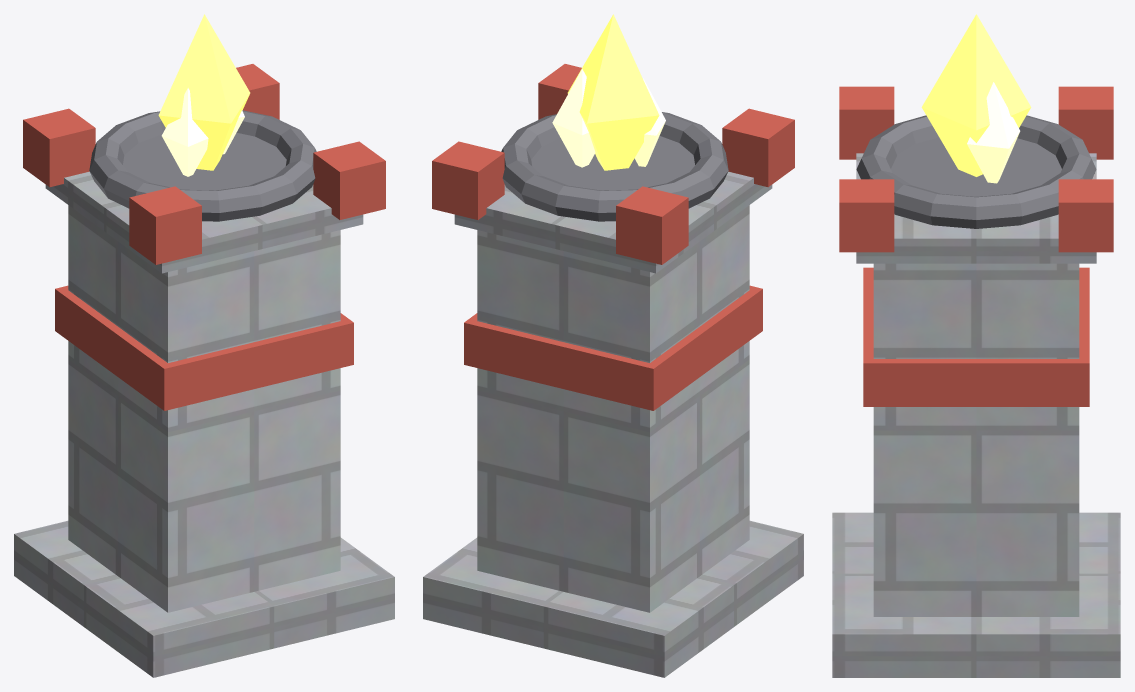
Rendered from fire.glb.
3 renders of one model, left to right at view 1: azimuth 30°, elevation 25°; view 2: azimuth 150°, elevation 25°; view 3: azimuth 270°, elevation 25°, orthographic. The views are drawn at different scales.
Visible parts, largest first — view 1: fire shaft, fire base, fire band, fire rim, fire course, fire flame a, fire bowl, fire merlon 4, fire merlon 3, fire merlon 2, fire flame c, fire merlon 1; view 2: fire shaft, fire base, fire band, fire rim, fire course, fire flame a, fire bowl, fire merlon 2, fire merlon 1, fire merlon 4, fire flame b, fire merlon 3 (+1 smaller); view 3: fire shaft, fire base, fire band, fire rim, fire flame a, fire course, fire bowl, fire merlon 1, fire merlon 3, fire merlon 2, fire merlon 4, fire flame b.
Part boxes in pixels (x1,y1,x2,y2): fire shaft: (68, 205, 340, 612); fire base: (14, 520, 394, 677); fire band: (55, 285, 353, 410); fire rim: (89, 110, 316, 221); fire course: (45, 171, 363, 273); fire flame a: (158, 14, 250, 170); fire bowl: (123, 132, 286, 190); fire merlon 4: (129, 186, 201, 264); fire merlon 3: (313, 141, 385, 219); fire merlon 2: (23, 108, 95, 187); fire flame c: (161, 88, 208, 176); fire merlon 1: (236, 64, 279, 119); fire shaft: (477, 205, 749, 612); fire base: (423, 520, 803, 677); fire band: (464, 285, 762, 410); fire rim: (501, 112, 728, 221); fire course: (454, 171, 772, 273); fire flame a: (567, 14, 659, 170); fire bowl: (531, 136, 694, 190); fire merlon 2: (616, 186, 688, 264); fire merlon 1: (432, 141, 504, 219); fire merlon 4: (722, 108, 794, 187); fire flame b: (552, 69, 595, 167); fire merlon 3: (538, 64, 581, 119); fire shaft: (873, 263, 1079, 616); fire base: (832, 512, 1120, 677); fire band: (863, 267, 1089, 406); fire rim: (856, 115, 1096, 228); fire flame a: (921, 14, 1031, 176); fire course: (856, 153, 1096, 263); fire bowl: (891, 137, 1061, 196); fire merlon 1: (1058, 179, 1113, 252); fire merlon 3: (839, 179, 894, 252); fire merlon 2: (1058, 86, 1113, 159); fire merlon 4: (839, 86, 894, 159); fire flame b: (967, 82, 1020, 183).
Bounding box in the file's own units: 0.84 × 1.94 × 0.84.
Materials: 12 (2 with a texture image).
